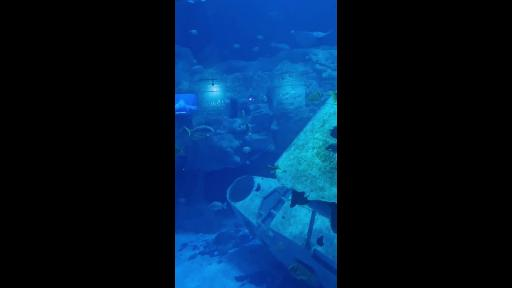Fish: (307, 200, 337, 233), (289, 264, 313, 282), (184, 126, 214, 137), (290, 190, 309, 207), (175, 100, 197, 113), (307, 91, 323, 102), (209, 202, 226, 210), (271, 43, 290, 49), (326, 143, 337, 153), (268, 165, 281, 173), (330, 126, 337, 139), (330, 91, 337, 103), (190, 134, 205, 139), (317, 236, 323, 246), (246, 124, 251, 135), (243, 147, 251, 153), (277, 243, 283, 250), (175, 146, 182, 152), (262, 95, 267, 103), (252, 47, 259, 52), (190, 30, 198, 34), (179, 198, 185, 202), (234, 44, 240, 48), (242, 110, 245, 118), (257, 36, 263, 39)
